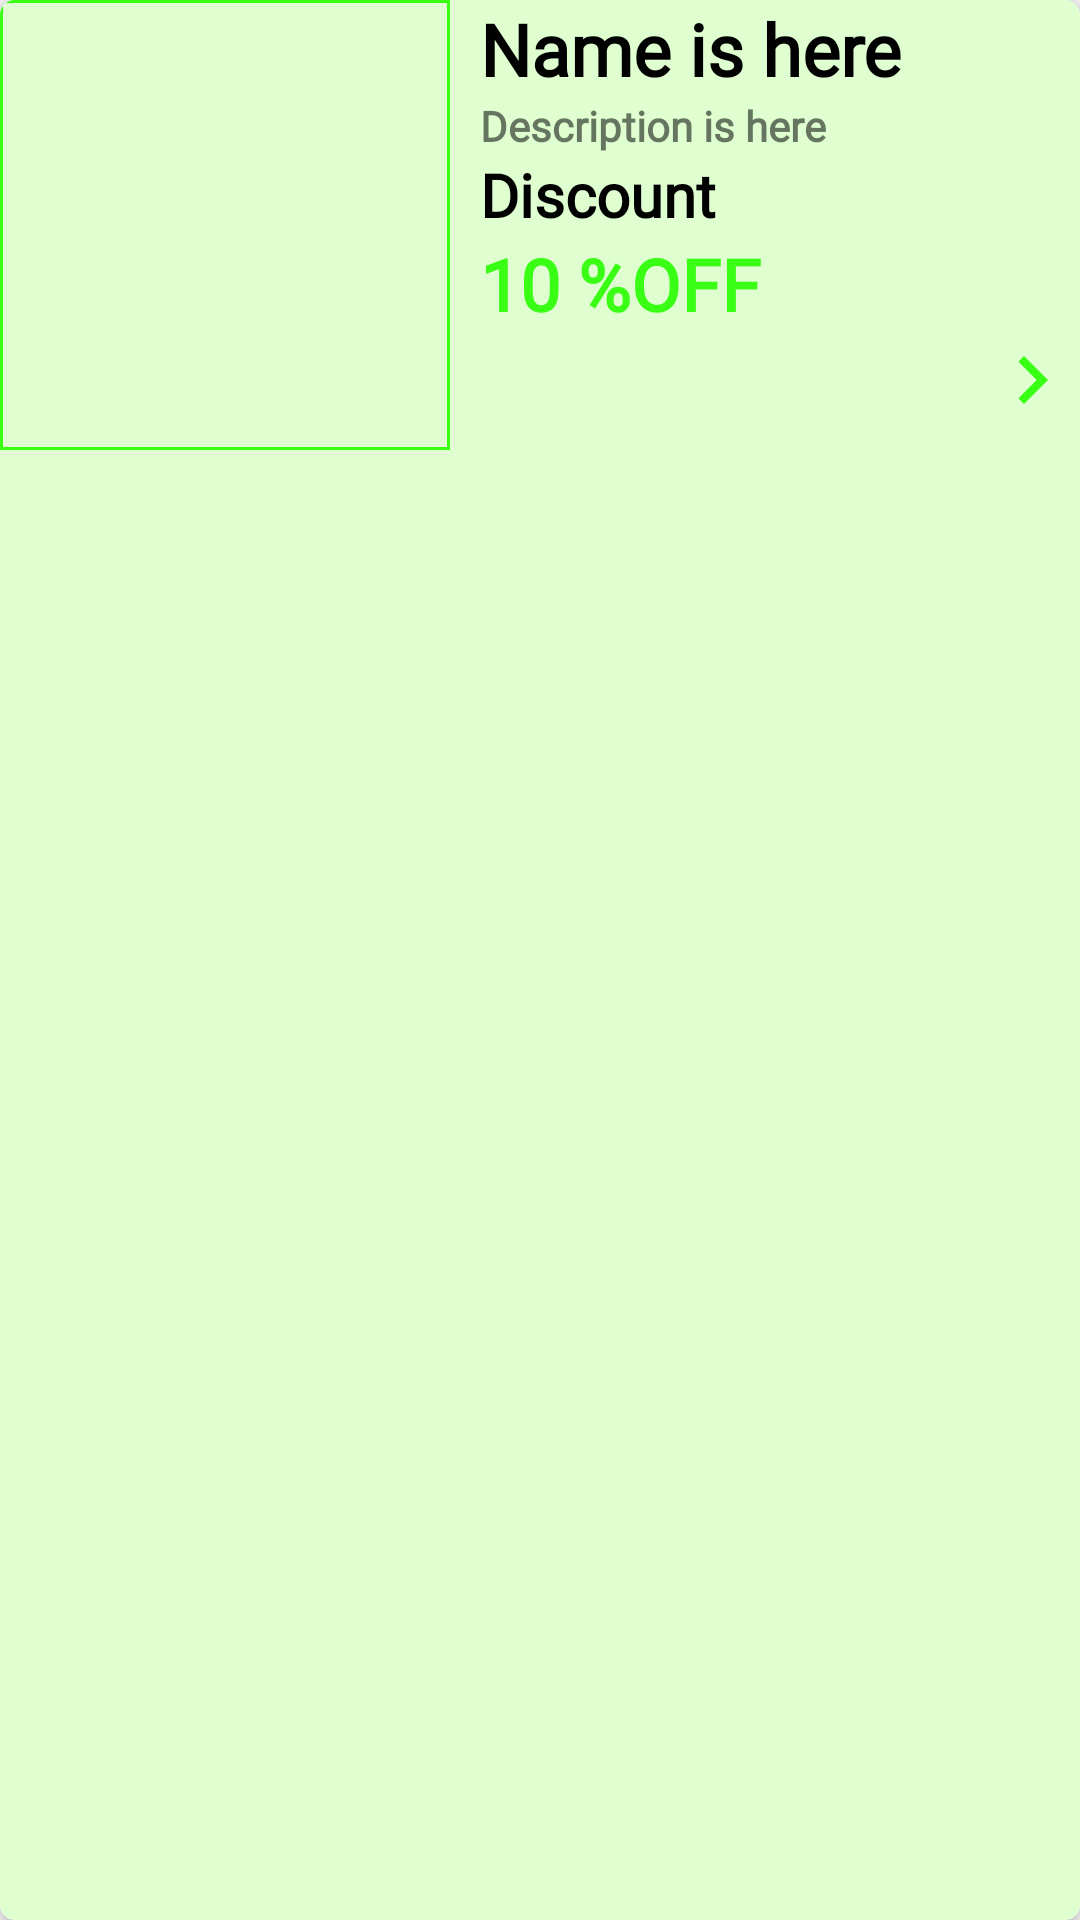

Point at icon controls on the screen. Image size 1080 x 1920, points as (x,y).
side wala arrow: (1033,380)
